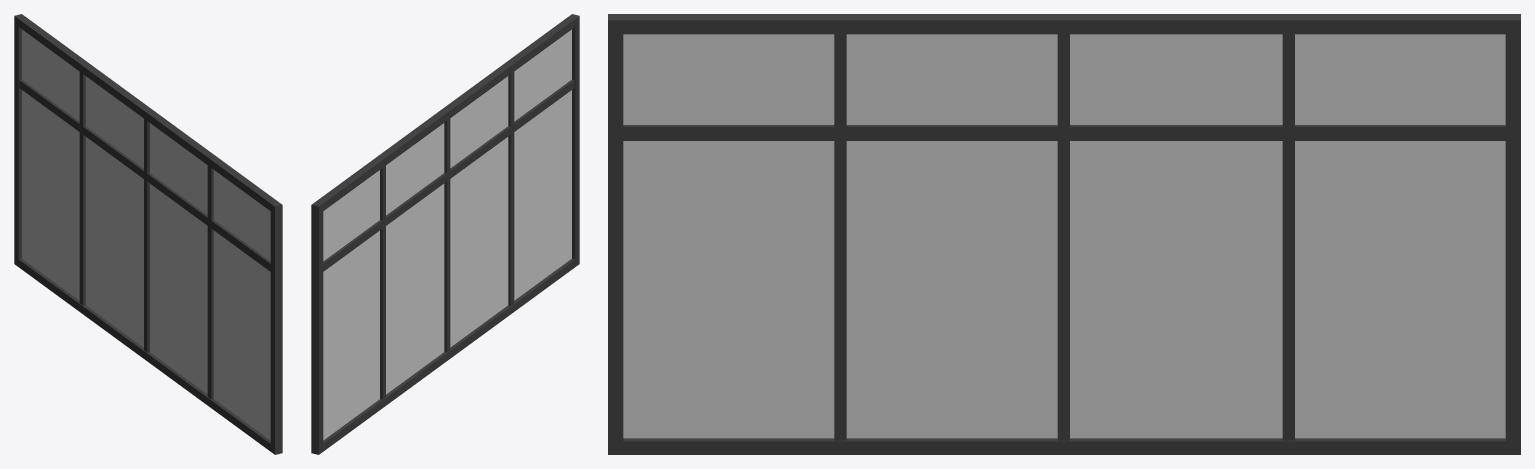
The model's file is Seperator14.fbx.
3 views of the same model, side by side, from view 1: azimuth 30°, elevation 25°; view 2: azimuth 150°, elevation 25°; view 3: azimuth 270°, elevation 25° (orthographic). The views are drawn at different scales.
Parts seen in each view (by area): view 1: Seperator14; view 2: Seperator14; view 3: Seperator14.
Boxes of the visible parts, x1,y1,x2,y2 form: Seperator14: [14, 14, 282, 454]; Seperator14: [311, 14, 579, 454]; Seperator14: [608, 14, 1520, 454].
Bounding box in the file's own units: 0.0501 × 3 × 1.58.
